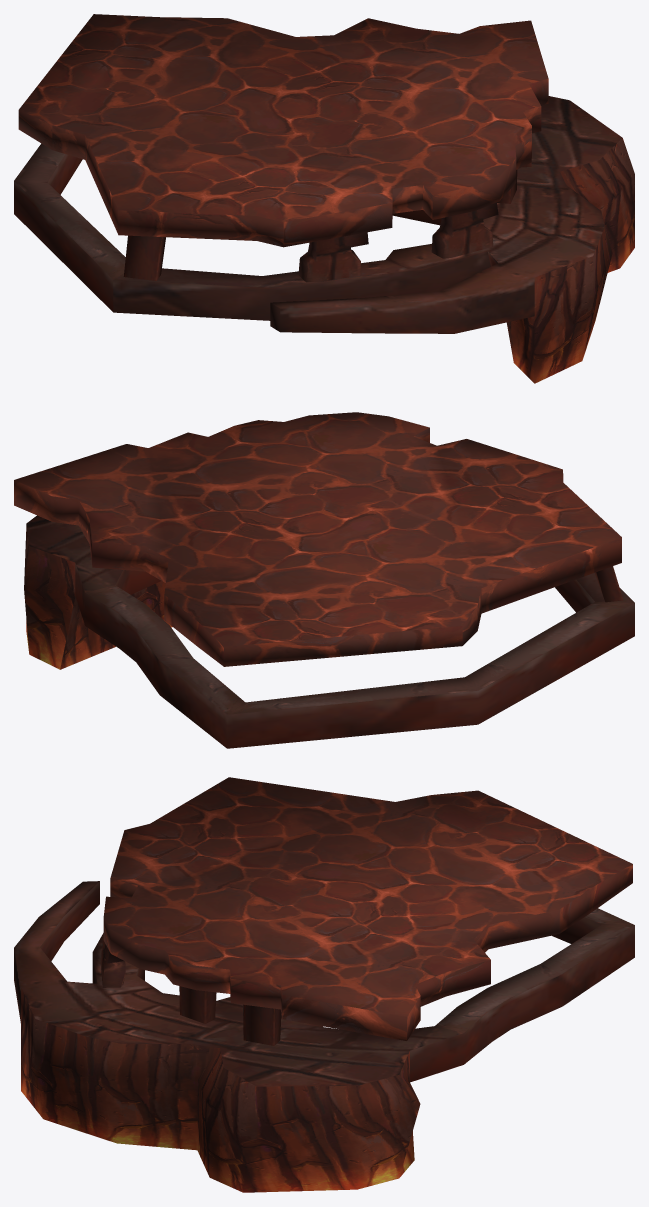
File: terrain06.FBX
3 views of the same model, one above another, from view 1: azimuth 30°, elevation 25°; view 2: azimuth 150°, elevation 25°; view 3: azimuth 270°, elevation 25° (orthographic). The views are drawn at different scales.
Visible parts, largest first — view 1: terrain06; view 2: terrain06; view 3: terrain06.
Part boxes in pixels (left/top/right/bottom): terrain06: left=14, top=14, right=634, bottom=383; terrain06: left=14, top=412, right=634, bottom=748; terrain06: left=14, top=777, right=634, bottom=1192.
Size of the model in its own units: 1511 by 1565 by 464.
